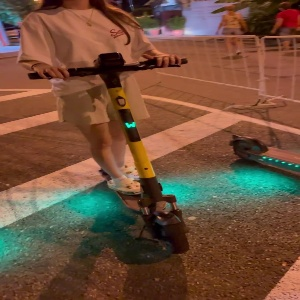human on a scooter: (15, 1, 192, 256)
